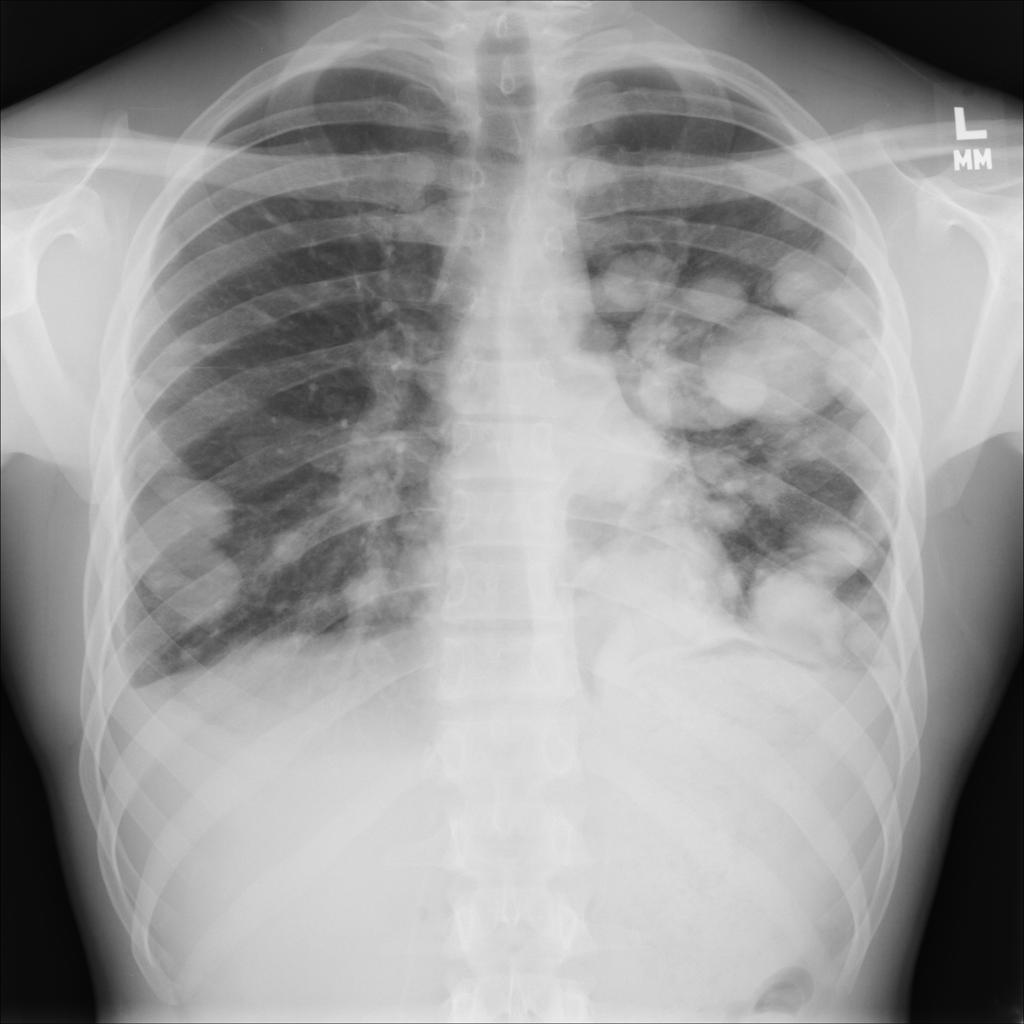nodule: (613, 306, 773, 442), (731, 540, 865, 655), (122, 531, 262, 641), (117, 462, 250, 576), (689, 325, 832, 421), (595, 244, 688, 318), (786, 513, 876, 584), (825, 336, 907, 412), (757, 251, 841, 315), (799, 274, 884, 337), (672, 267, 759, 324), (556, 145, 634, 207), (839, 408, 907, 477), (263, 520, 319, 570), (768, 194, 826, 234)
